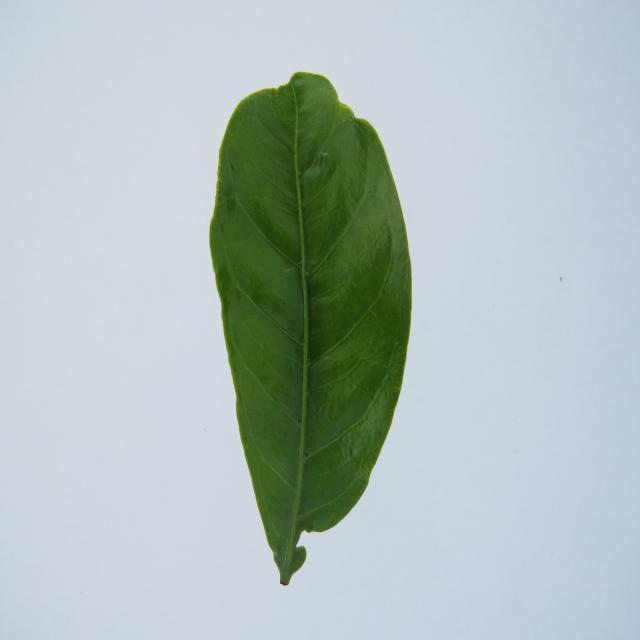DeficienciaNutricional-Boro: (210, 73, 411, 585)
